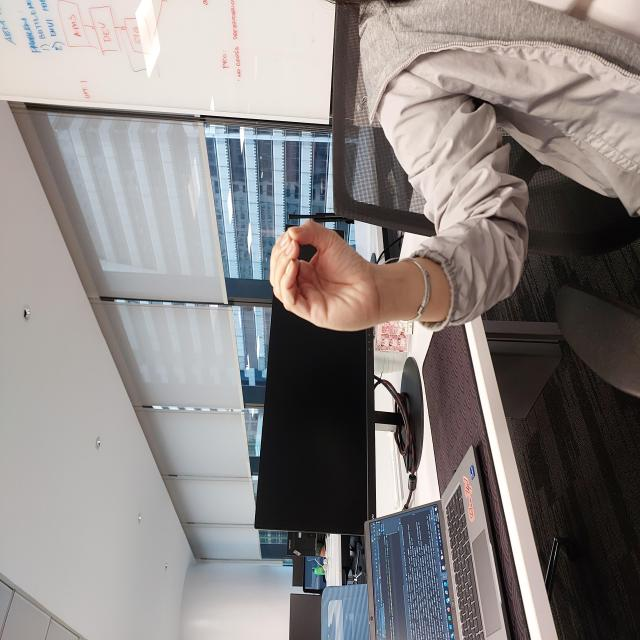O: (308, 270, 422, 380)
